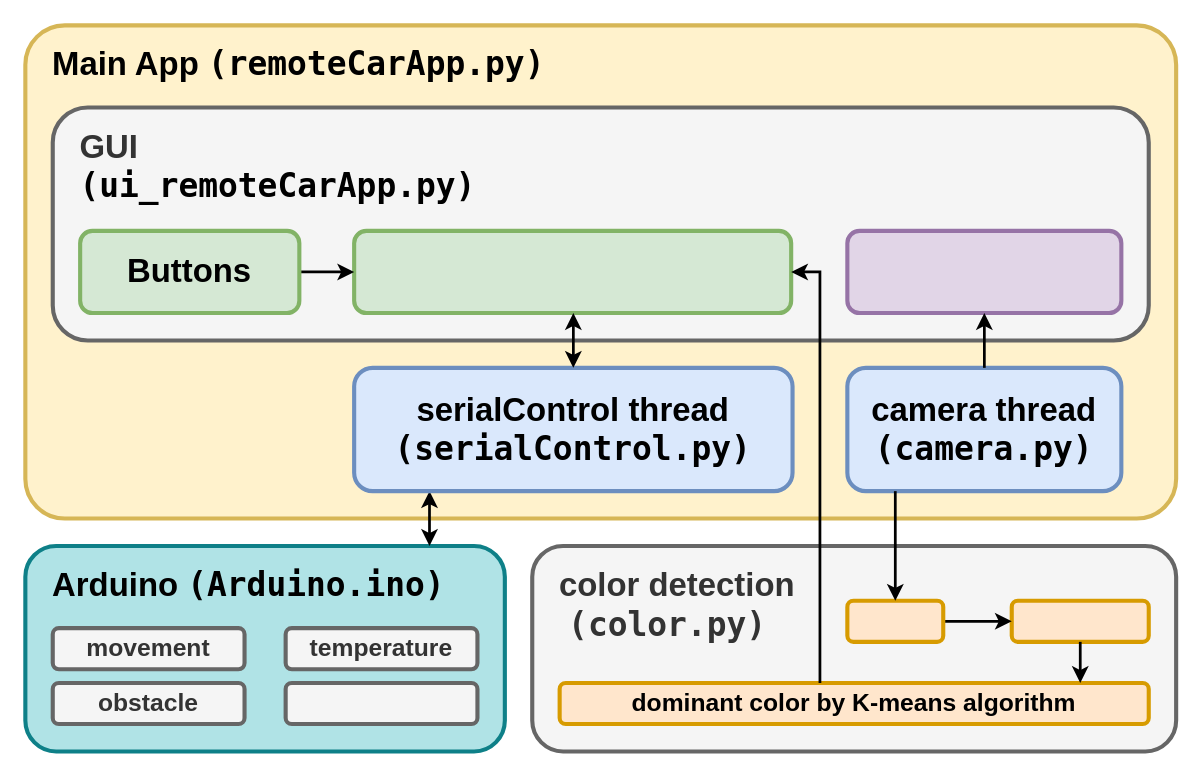
Some shapes in this 1201 by 777 pixel diagram are drawn without their labels. Here are the shapes that lost their labels. From the top down, the centre of each, then its label:
At (572,271): "Command-Line Interface".
At (984,271): "Monitor".
At (895,620): "crop".
At (1079,620): "enhance".
At (381,702): "distance".
